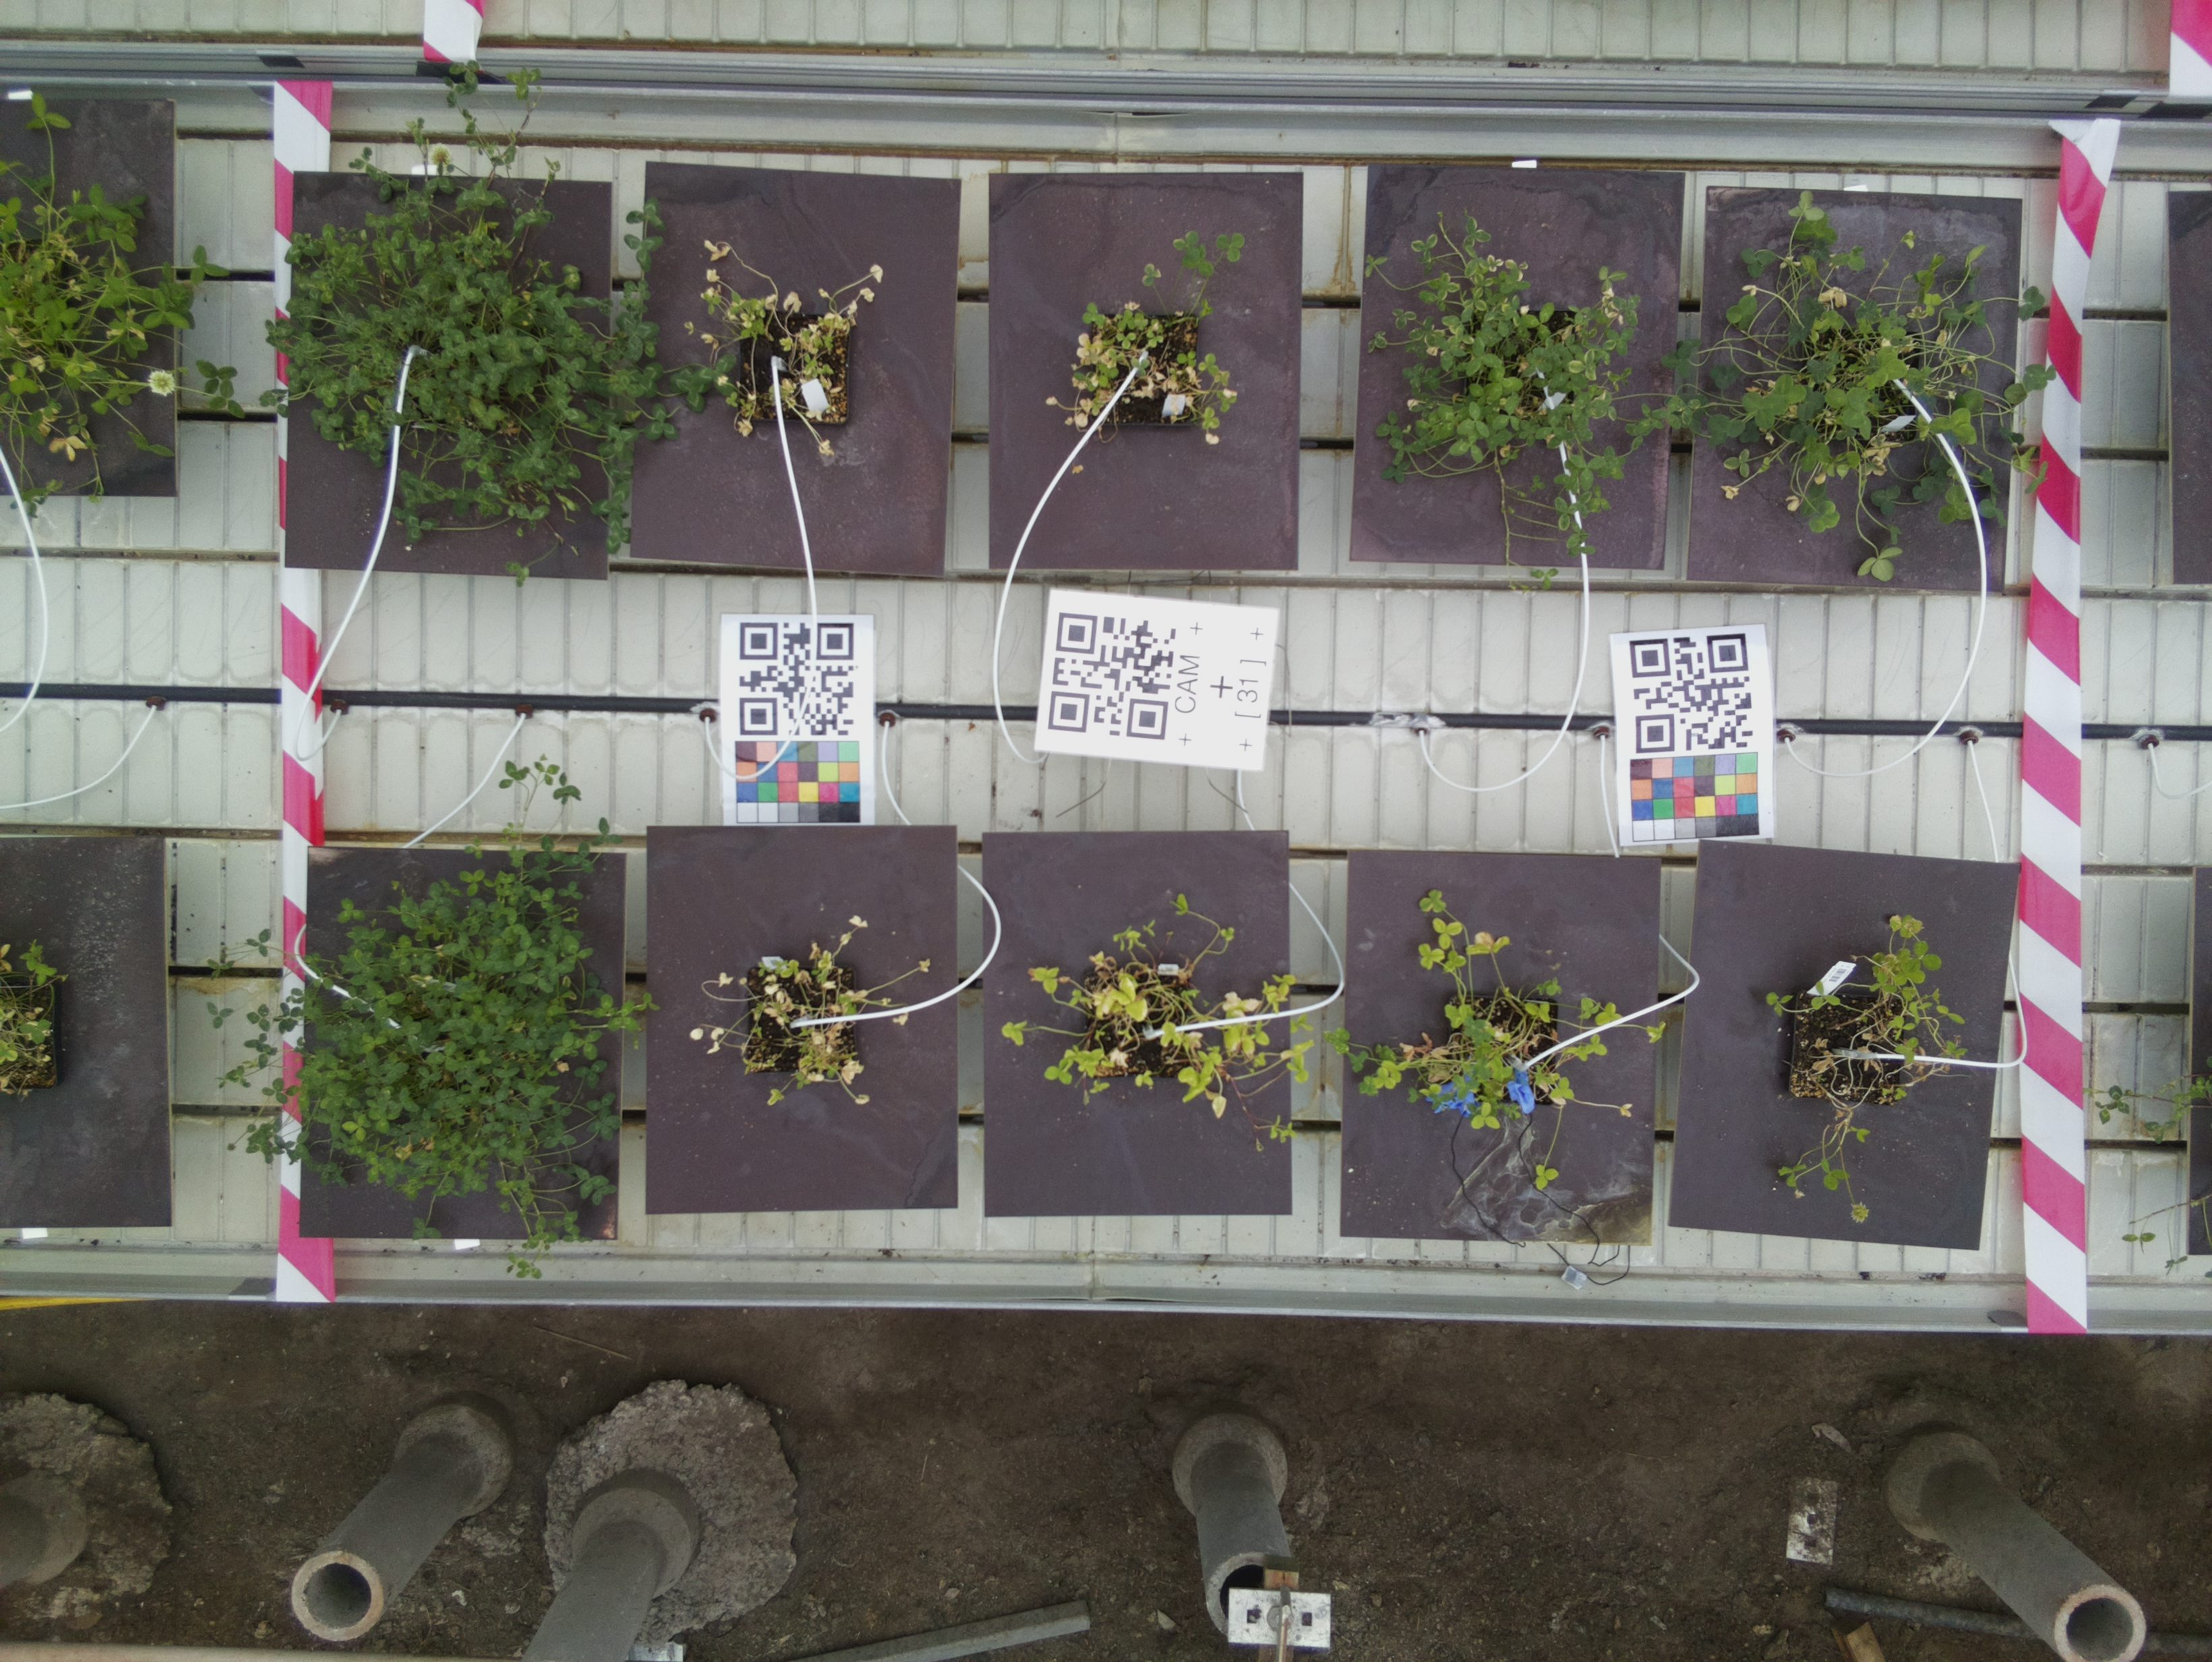POT: (1666, 850, 2022, 1234), (639, 164, 958, 581), (290, 169, 611, 581), (986, 169, 1308, 573), (1351, 173, 1688, 555), (1702, 183, 2011, 592), (300, 848, 620, 1243), (1351, 845, 1653, 1245), (646, 826, 958, 1205), (988, 836, 1294, 1217)
QRCODE: (1028, 587, 1287, 773)
QRCOLOR: (1610, 627, 1777, 843), (721, 618, 876, 826)
